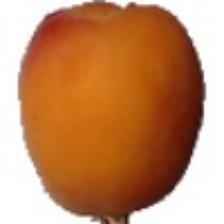apricot: (52, 44, 213, 222)
